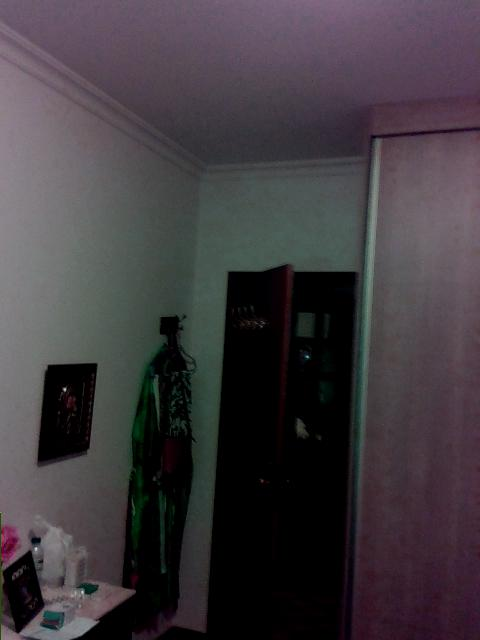semi_door: (208, 262, 361, 639)
